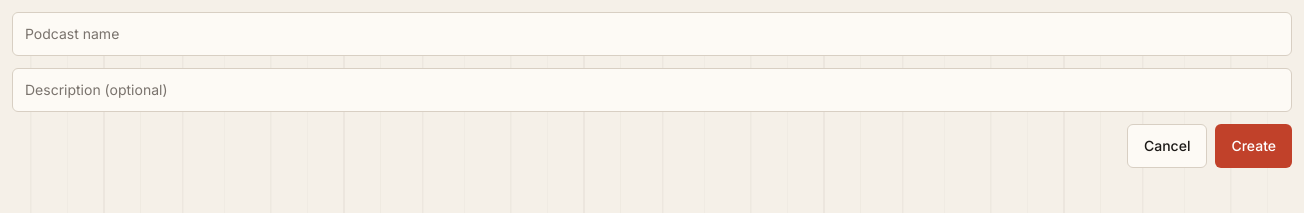
PodcastCreateForm › shows error message on failure
The image size is (1304, 213).
In the field with placeholder "Podcast name": (652, 34) [12, 12, 1292, 56], type "Duplicate"
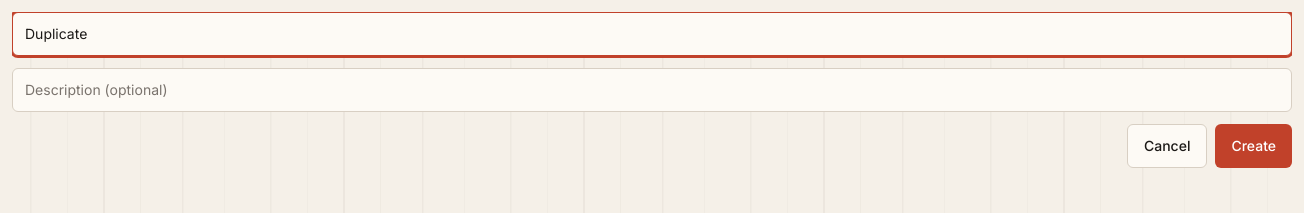
Click the button "Create": (1254, 146) [1215, 124, 1292, 168]
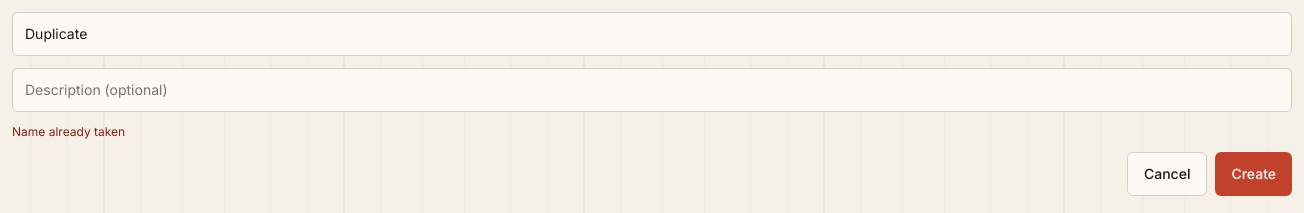
Result: the text "Name already taken" is shown at [12, 124, 125, 139]
